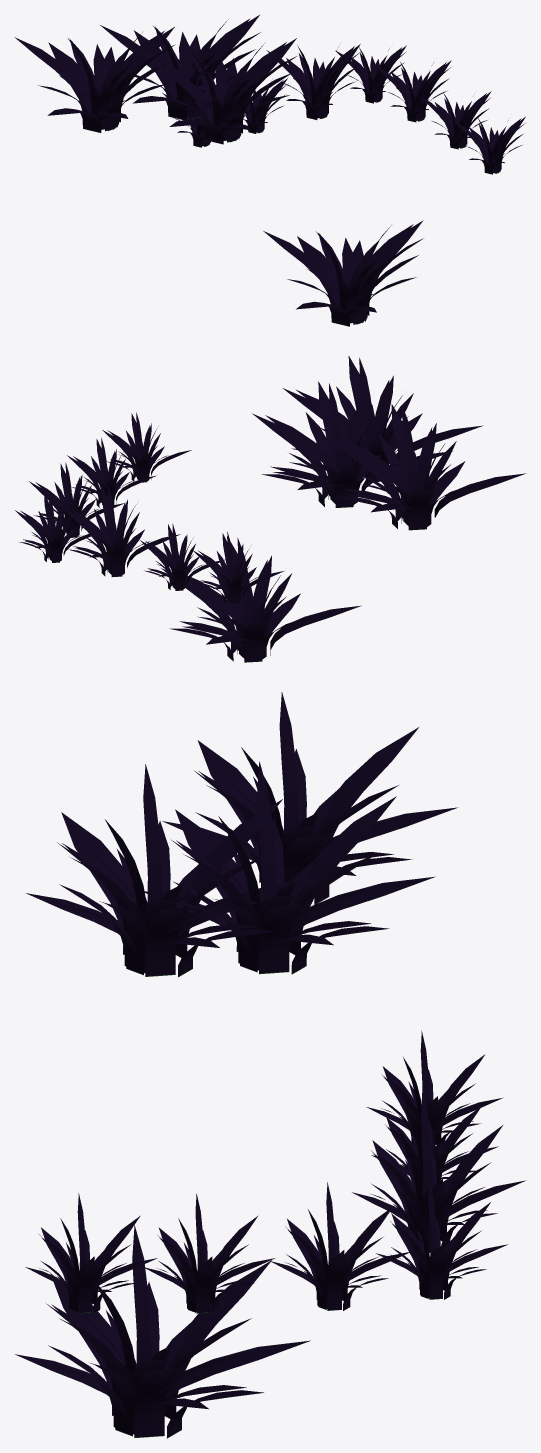
Rendered from black mondo grass.fbx.
3 views of the same model, one above another, from view 1: azimuth 30°, elevation 25°; view 2: azimuth 150°, elevation 25°; view 3: azimuth 270°, elevation 25° (orthographic). The views are drawn at different scales.
Visible parts, largest first — view 1: black mondo grass; view 2: black mondo grass; view 3: black mondo grass.
Part boxes in pixels (x1,y1,x2,y2): black mondo grass: [14, 15, 525, 326]; black mondo grass: [15, 356, 526, 662]; black mondo grass: [15, 692, 526, 1438].
Bounding box in the file's own units: 6.68 × 4.42 × 3.86.
